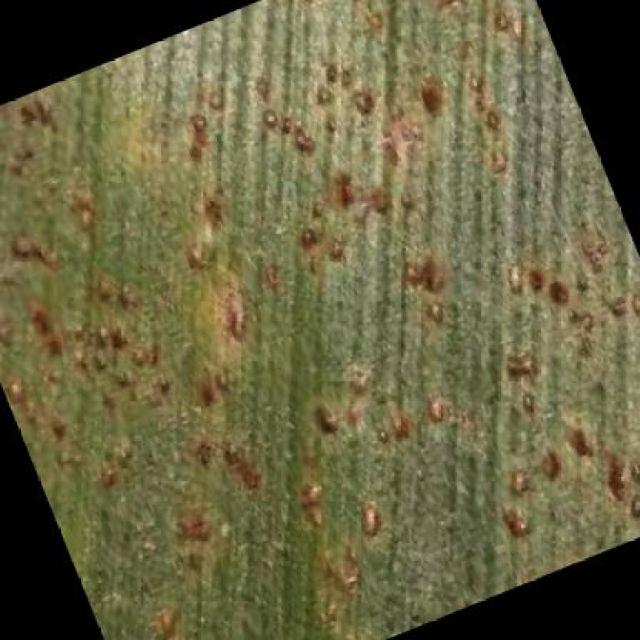Corn_Rust: (72, 89, 566, 544)
